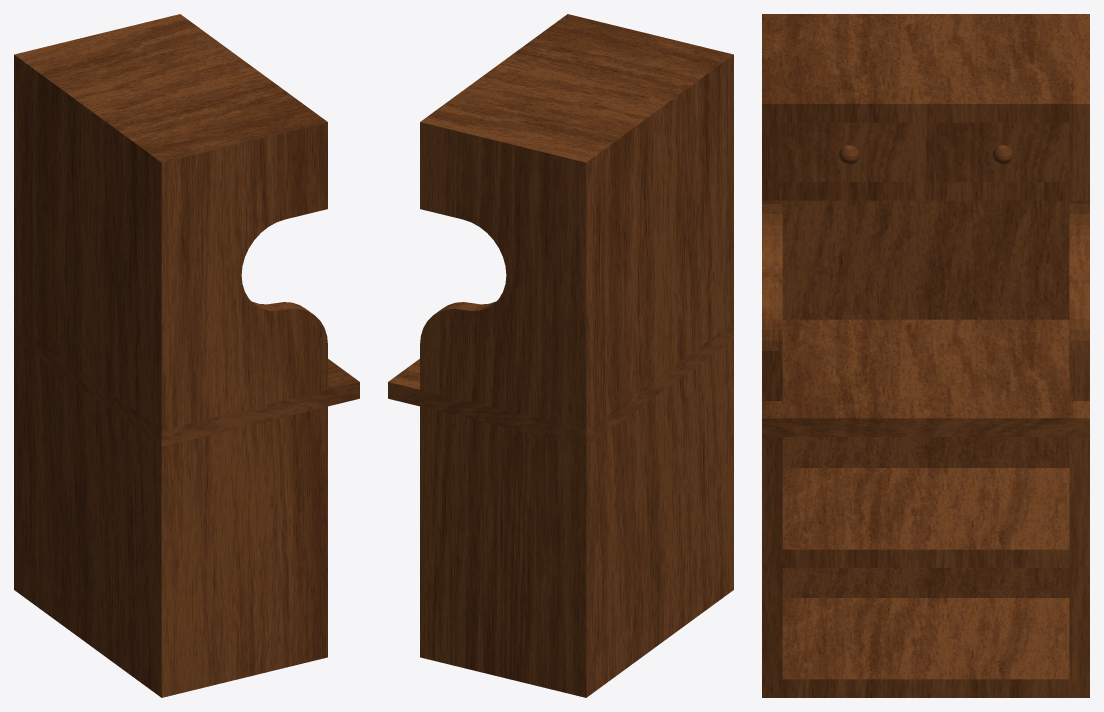
File: blender_aparador.glb
3 renders of one model, left to right at view 1: azimuth 30°, elevation 25°; view 2: azimuth 150°, elevation 25°; view 3: azimuth 270°, elevation 25°, orthographic. The views are drawn at different scales.
Parts seen in each view (by area): view 1: Armario; view 2: Armario; view 3: Armario, Cajon.
Boxes of the visible parts, x1,y1,x2,y2 form: Armario: [14, 14, 359, 697]; Armario: [388, 14, 733, 697]; Armario: [762, 14, 1089, 697]; Cajon: [782, 122, 1069, 181].
Bounding box in the file's own units: 0.775 × 2 × 1.
2 materials, 2 textured.
